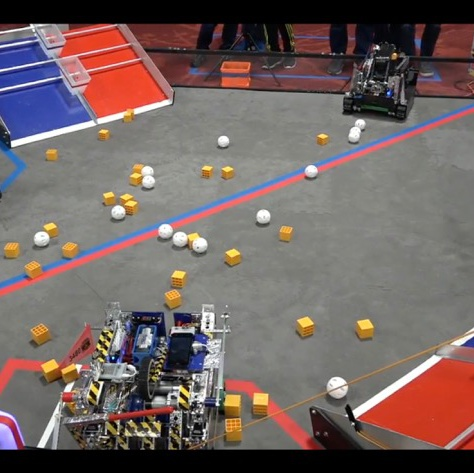robot: (54, 297, 235, 450), (338, 39, 423, 122)
